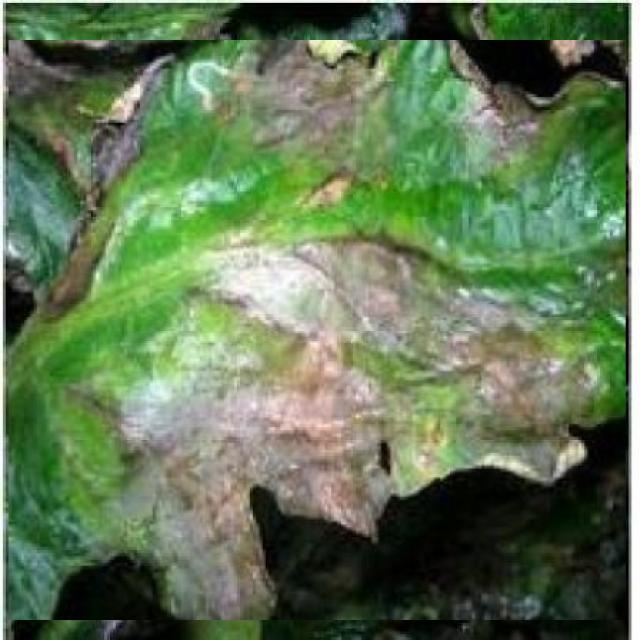Late Blight: (8, 40, 626, 620)
